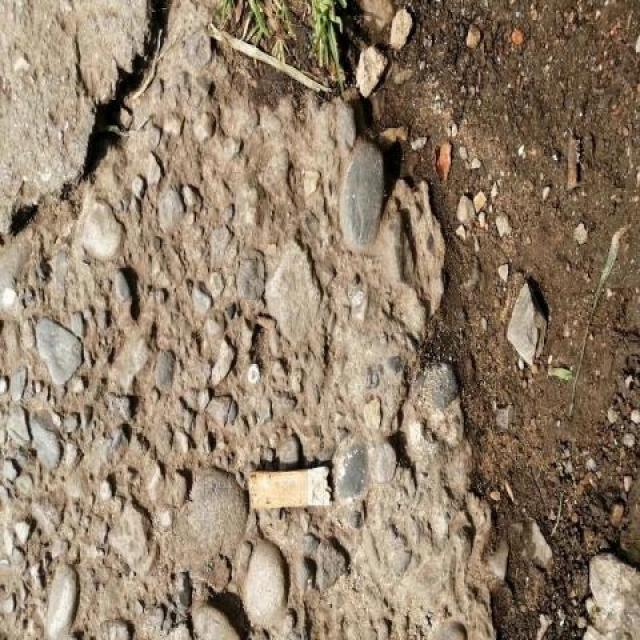non-organic waste: (245, 458, 338, 514)
